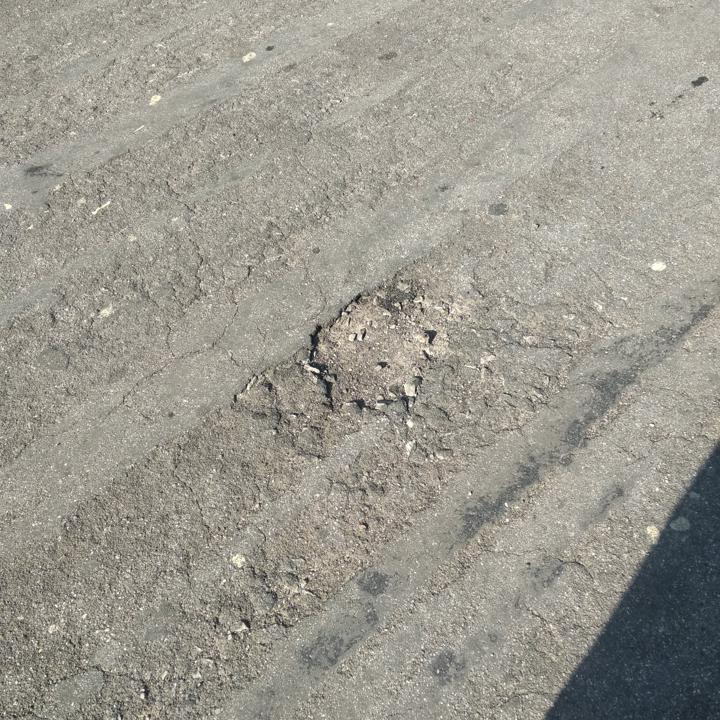pothole: (299, 279, 461, 421)
